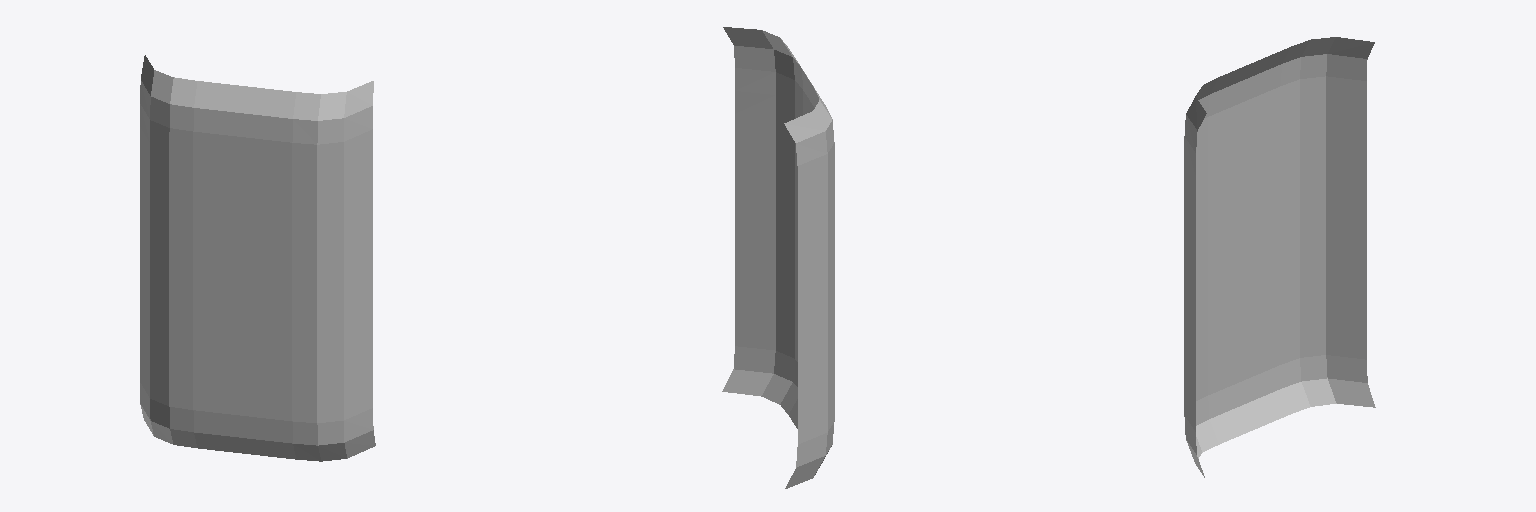
File: mainMenuCave.obj
3 views of the same model, side by side, from view 1: azimuth 30°, elevation 25°; view 2: azimuth 150°, elevation 25°; view 3: azimuth 270°, elevation 25° (orthographic).
Parts seen in each view (by area): view 1: Main_menu_cave_Landscape.019; view 2: Main_menu_cave_Landscape.019; view 3: Main_menu_cave_Landscape.019.
Part boxes in pixels (x1,y1,x2,y2): Main_menu_cave_Landscape.019: (140, 55, 375, 461); Main_menu_cave_Landscape.019: (722, 27, 834, 488); Main_menu_cave_Landscape.019: (1184, 37, 1375, 477).
Bounding box in the file's own units: 0.3393 × 0.7197 × 0.3393.